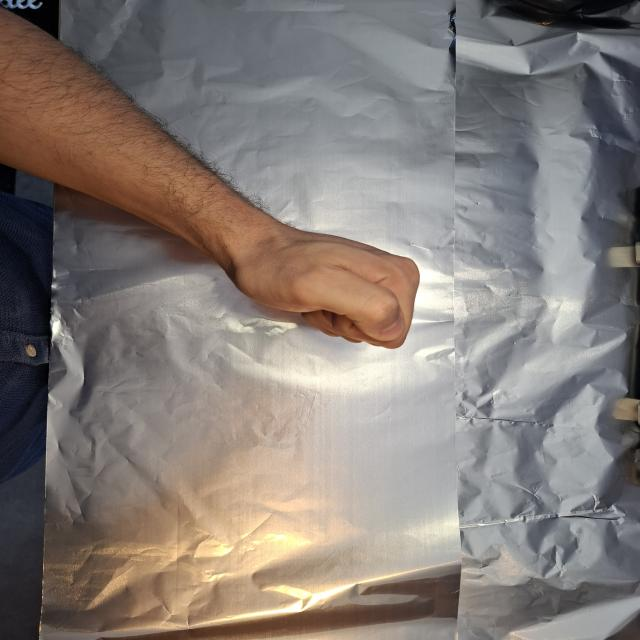glove_off: (213, 213, 423, 350)
